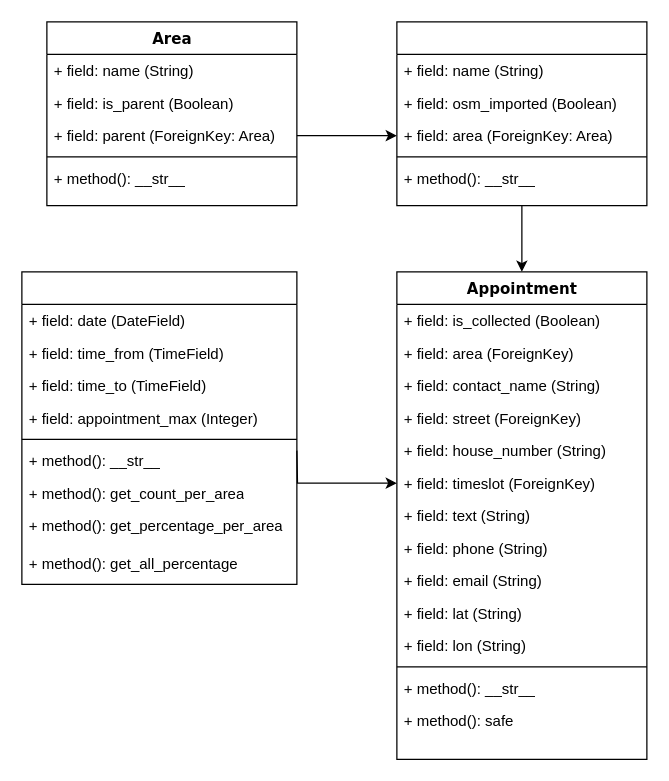
This 669x781 diagram has some shape labels left out. Here are the shapes that lost their labels. From the top down, the box of each, then its label:
(396, 21, 647, 206): Street
(21, 271, 297, 584): Timeslot
